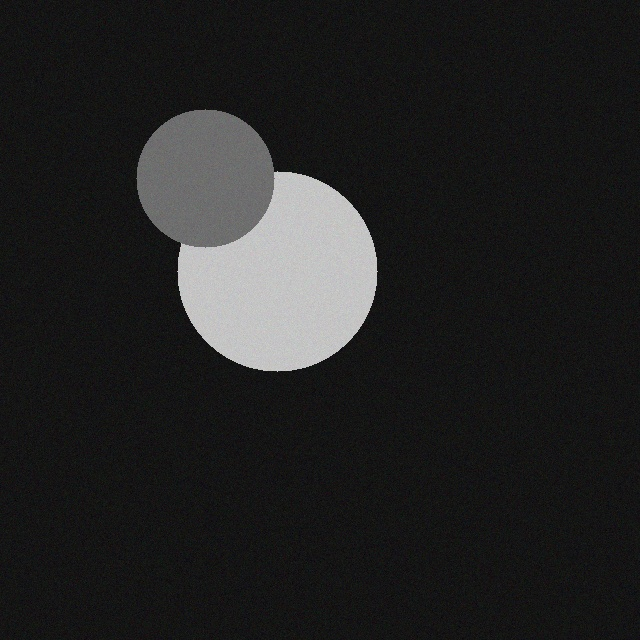circle: (169, 180, 369, 380), (128, 118, 266, 256)
